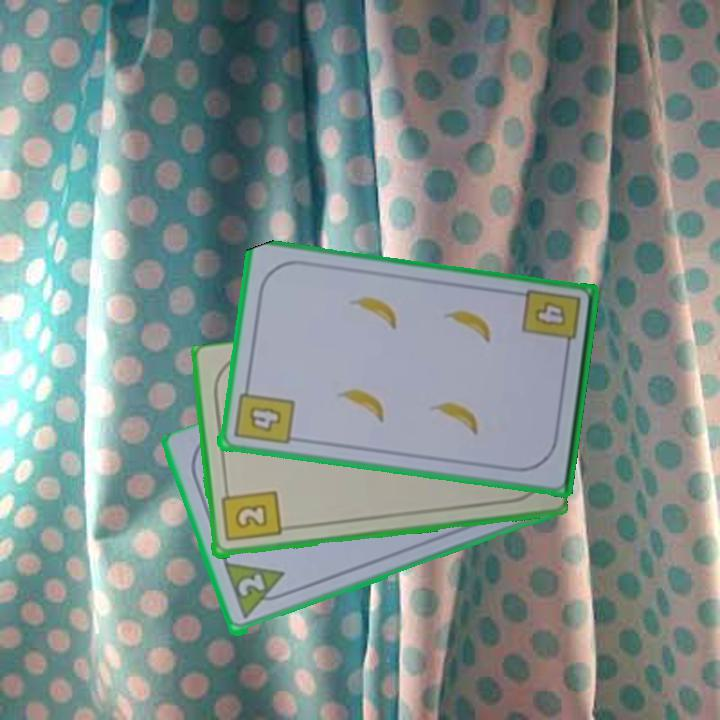2b: (217, 484, 283, 545)
2p: (220, 560, 293, 623)
4b: (230, 379, 296, 447), (530, 298, 569, 330)
